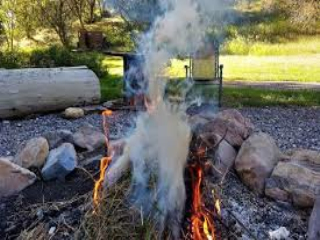fire: (81, 131, 112, 211), (192, 161, 218, 237)
smoke: (113, 23, 192, 210)
